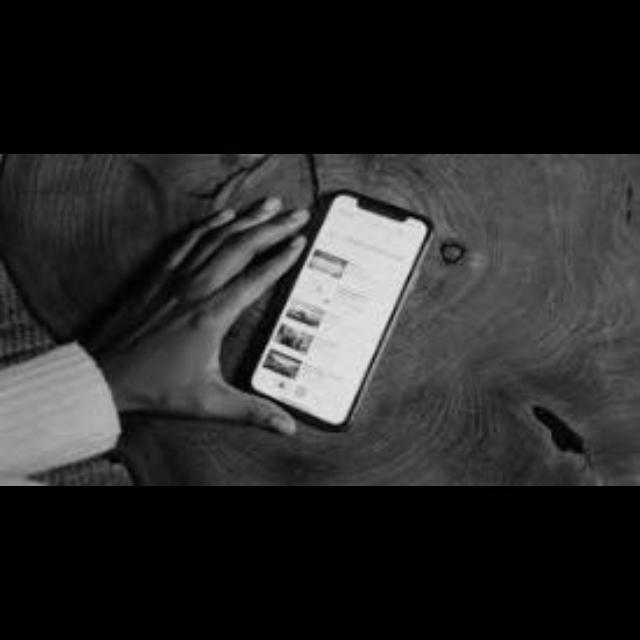fake: (234, 179, 434, 439)
